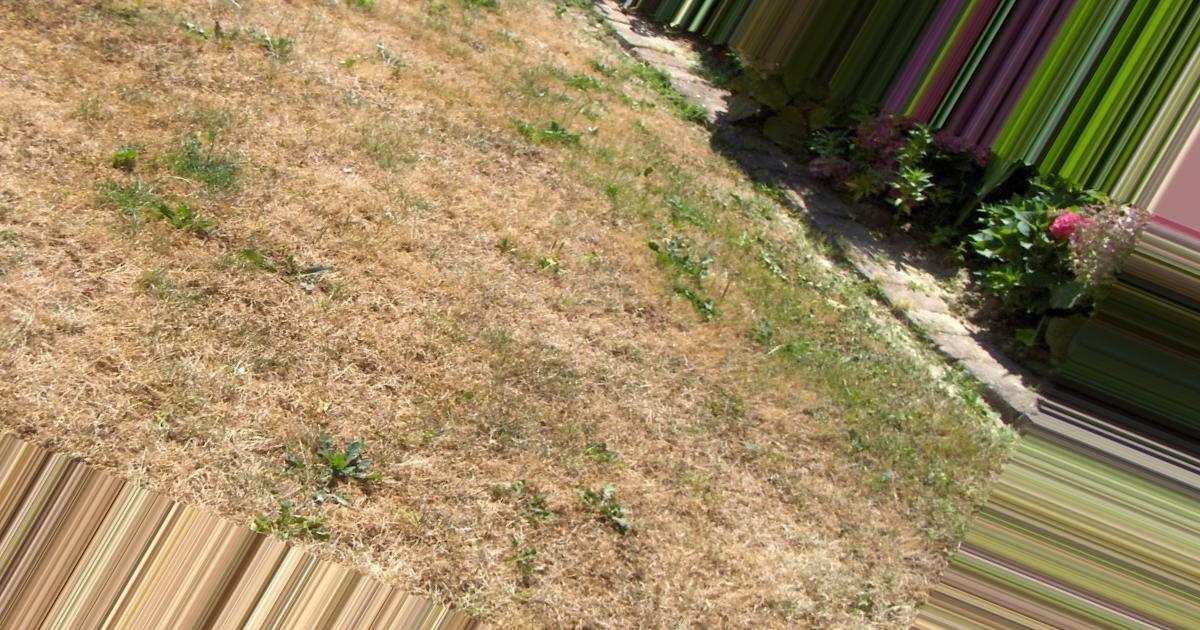patch: (54, 231, 425, 440), (463, 262, 713, 462), (338, 31, 545, 240), (50, 22, 311, 117), (700, 490, 783, 630), (425, 492, 520, 576), (550, 560, 626, 630)
